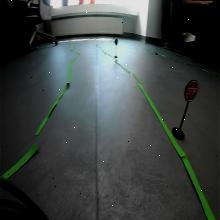stop: (184, 79, 199, 102)
